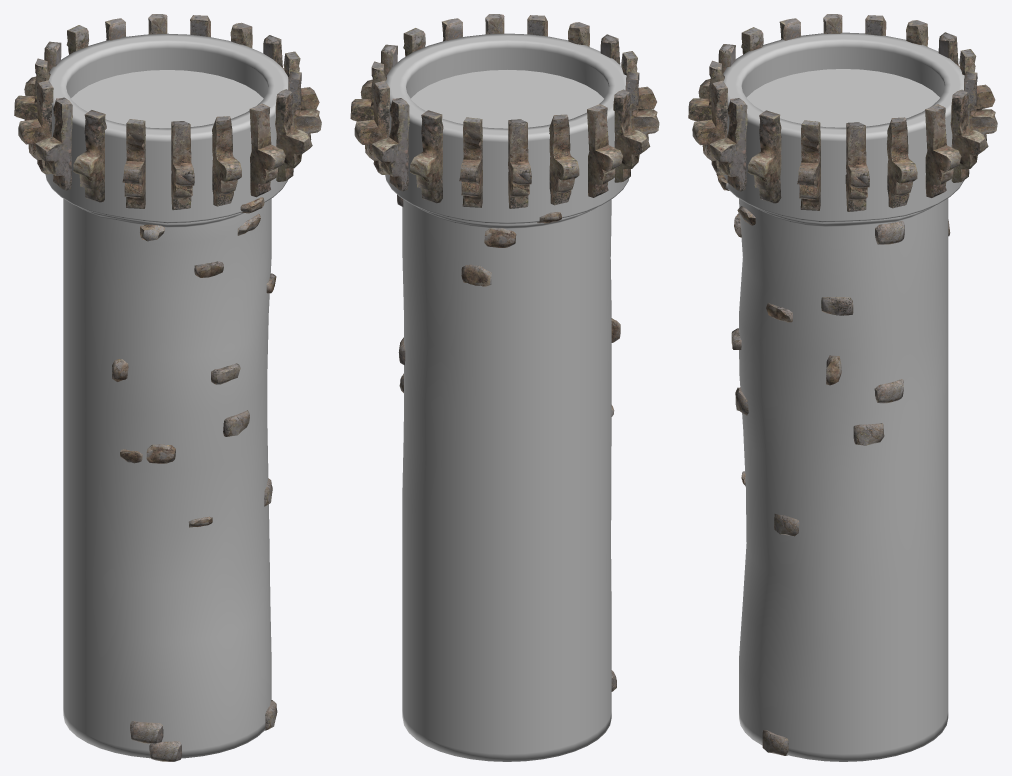
Rendered from SM_EntranceLargePillar05.FBX.
The picture shows the model from 3 angles, left to right: view 1: azimuth 30°, elevation 25°; view 2: azimuth 150°, elevation 25°; view 3: azimuth 270°, elevation 25°; orthographic projection.
Parts seen in each view (by area): view 1: SM_EntranceLargePillar05; view 2: SM_EntranceLargePillar05; view 3: SM_EntranceLargePillar05.
Part boxes in pixels (left/top/right/bottom): SM_EntranceLargePillar05: left=14, top=14, right=321, bottom=761; SM_EntranceLargePillar05: left=350, top=14, right=659, bottom=761; SM_EntranceLargePillar05: left=688, top=14, right=997, bottom=761.
Size of the model in its own units: 890 by 886 by 2065.
